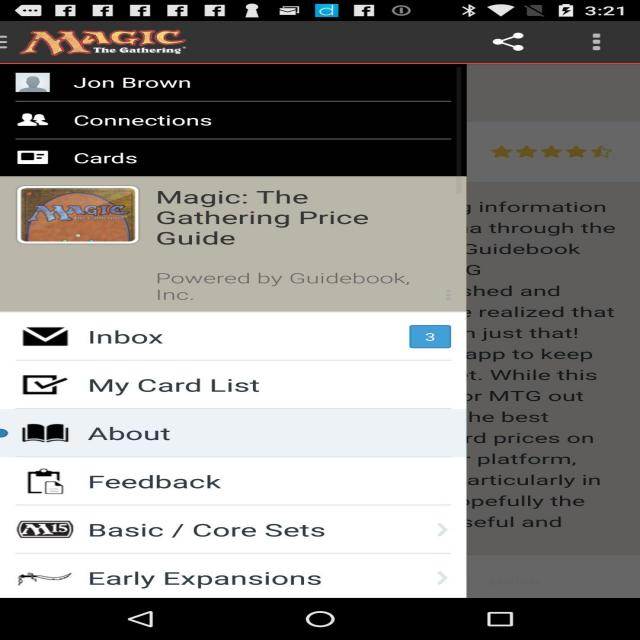button: (84, 318, 359, 596), (78, 71, 241, 178)
icon: (7, 316, 78, 591), (18, 178, 150, 239), (12, 186, 140, 242)
text: (138, 182, 386, 263)
